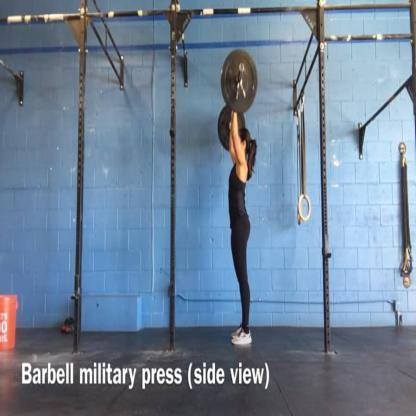barbell: (217, 49, 259, 152)
